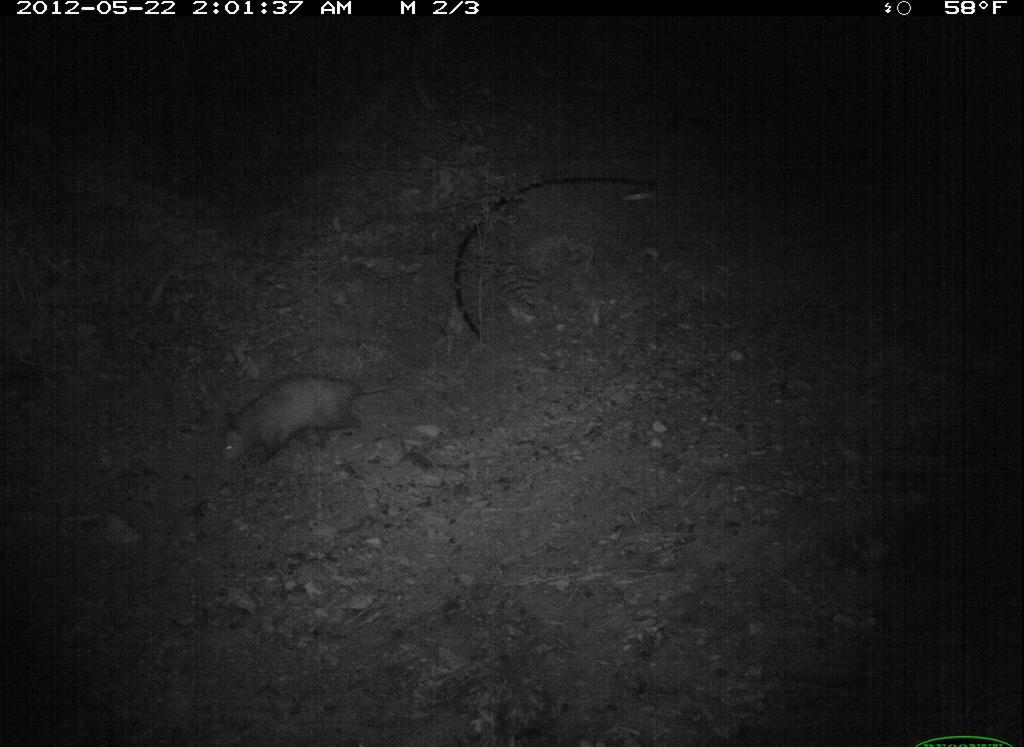opossum: (203, 364, 401, 475)
